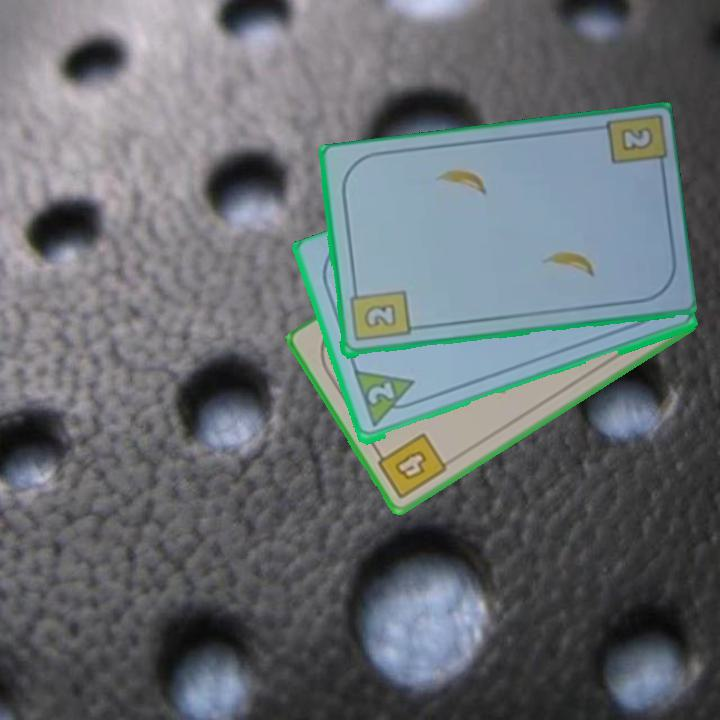2b: (346, 283, 412, 345), (616, 123, 657, 155)
2p: (363, 379, 397, 408)
4b: (370, 430, 450, 503)
